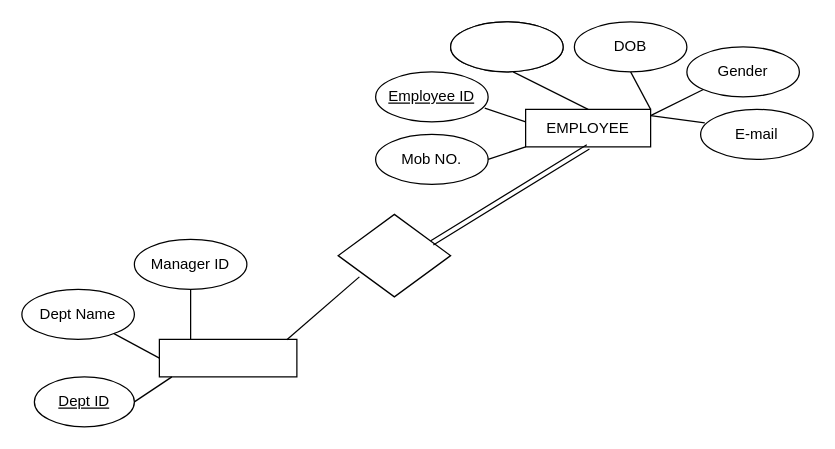
Some shapes in this 835 by 449 pixel diagram are drawn without their labels. Each missing label, with the box of its shape:
Belongs To: (337, 213, 451, 297)
DEPARTMENT: (158, 338, 297, 377)
Name: (449, 21, 563, 72)
